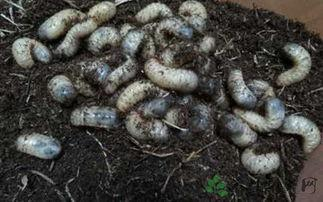grub: (143, 59, 208, 89)
